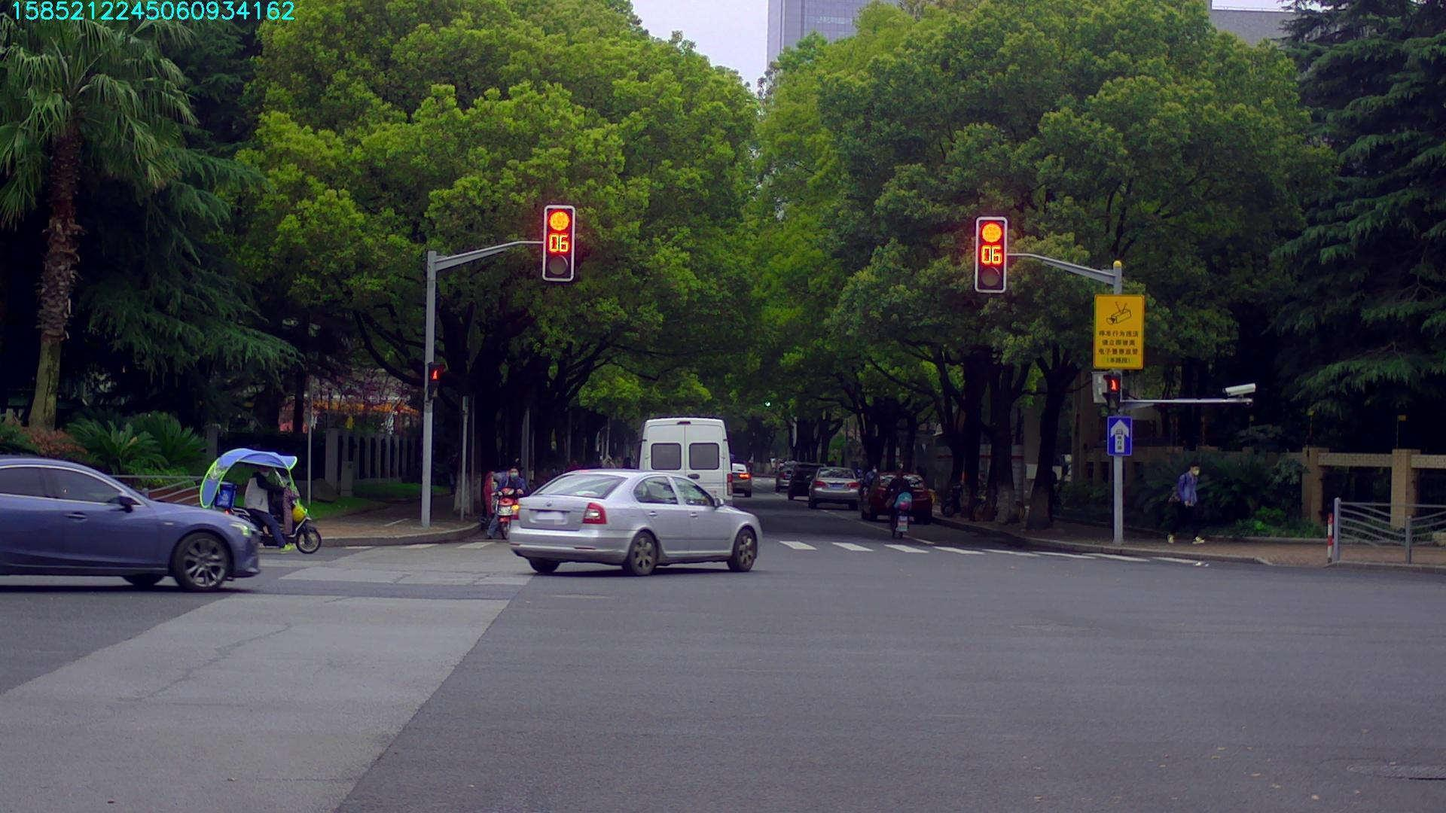red: (978, 218, 1005, 291), (545, 206, 572, 278)
